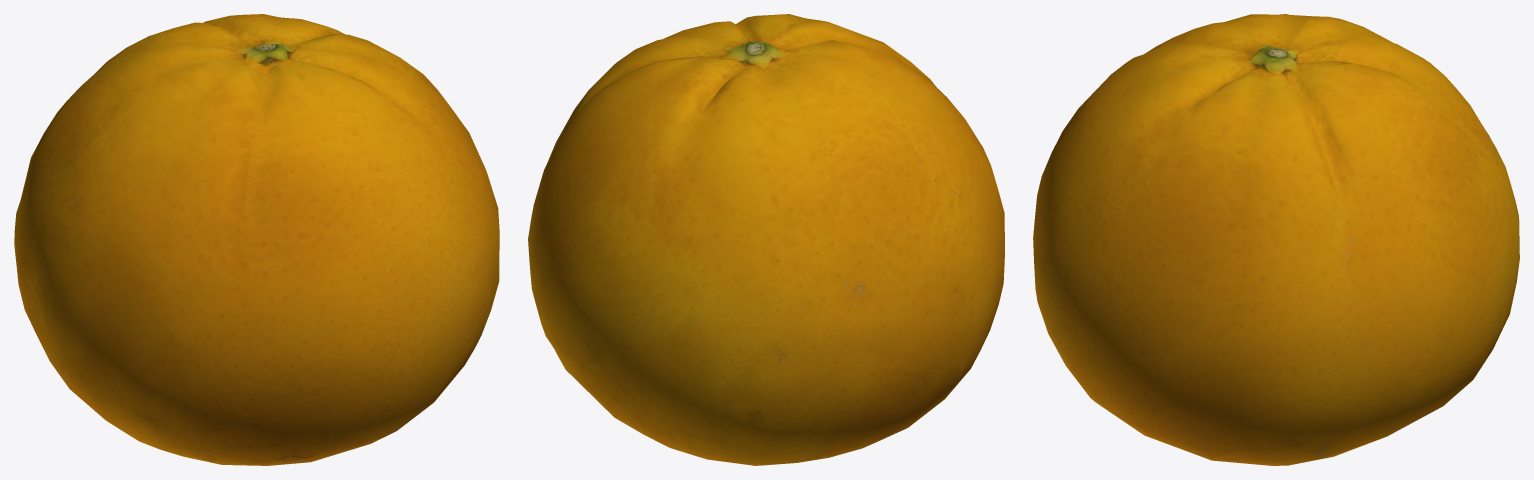
Rendered from orange-transformed.glb.
3 renders of one model, left to right at view 1: azimuth 30°, elevation 25°; view 2: azimuth 150°, elevation 25°; view 3: azimuth 270°, elevation 25°, orthographic.
Visible parts, largest first — view 1: Object_2; view 2: Object_2; view 3: Object_2.
Part boxes in pixels (x1=…): Object_2: x1=14, y1=14, x2=499, y2=465; Object_2: x1=528, y1=14, x2=1004, y2=465; Object_2: x1=1033, y1=14, x2=1519, y2=465.
Bounding box in the file's own units: 0.0864 × 0.0758 × 0.0866.
1 material, 1 textured.
